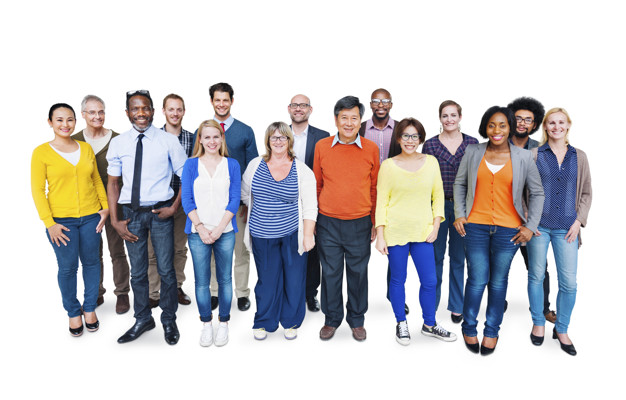person: (381, 116, 442, 262), (465, 102, 529, 238), (527, 101, 590, 213), (322, 84, 376, 206), (35, 104, 106, 192), (111, 94, 178, 186), (250, 123, 312, 213), (186, 118, 240, 206)
